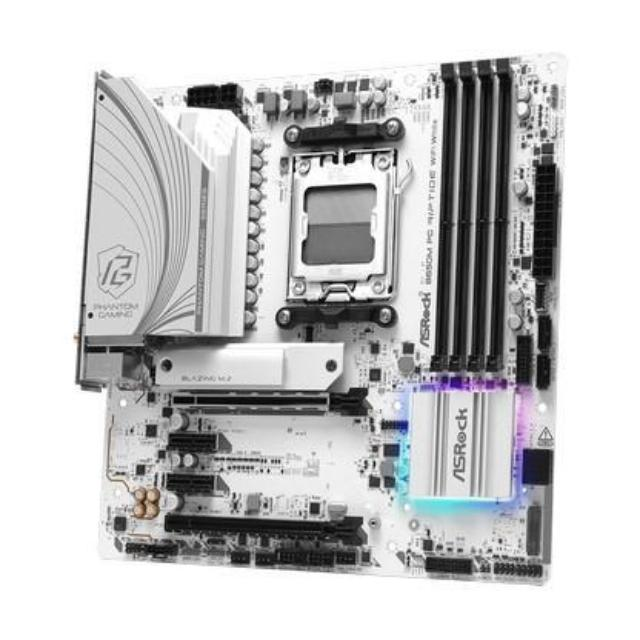Mainboard: (70, 54, 562, 592)
